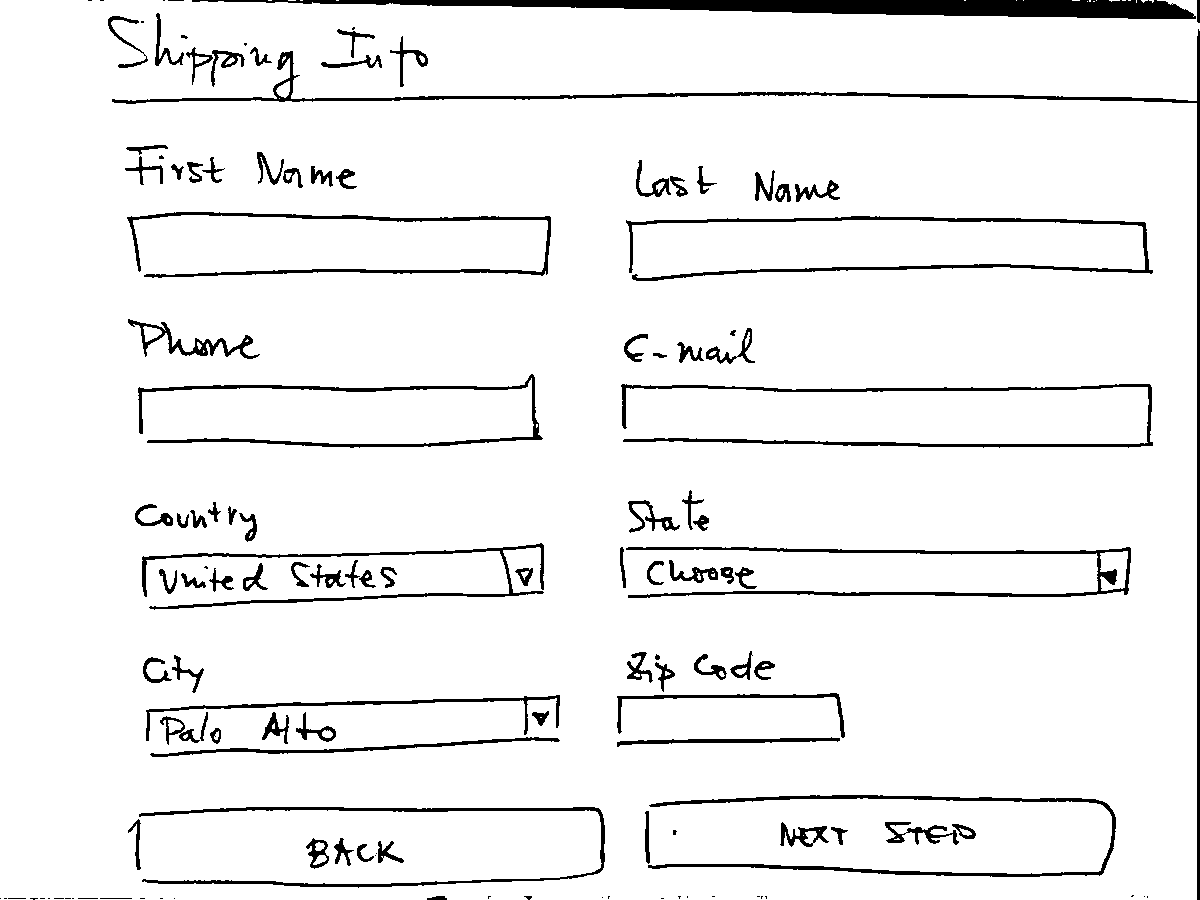Button: (641, 791, 1119, 881), (126, 804, 611, 891)
Label: (116, 137, 370, 197), (630, 148, 849, 206), (120, 310, 267, 366), (619, 325, 766, 372)
Select: (616, 539, 1136, 601), (138, 539, 548, 614), (141, 691, 566, 762)
Textbox: (616, 376, 1155, 453), (623, 213, 1151, 285), (133, 372, 542, 453), (123, 209, 557, 279), (610, 688, 846, 748)
